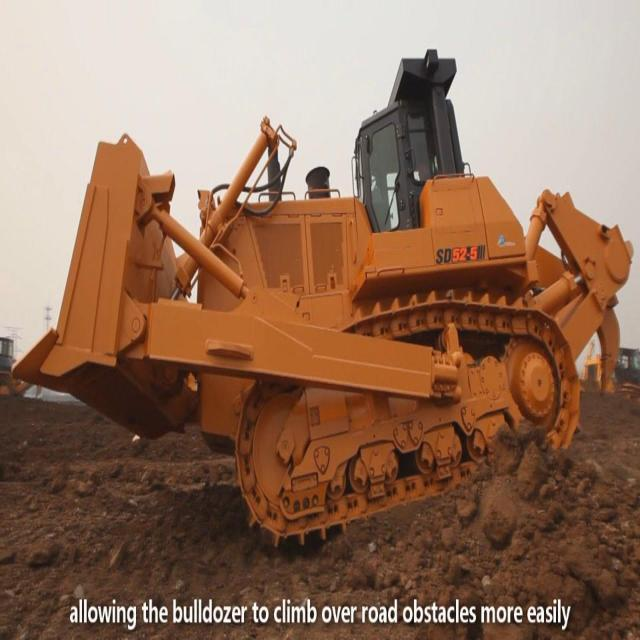Bulldozer: (35, 29, 636, 548)
